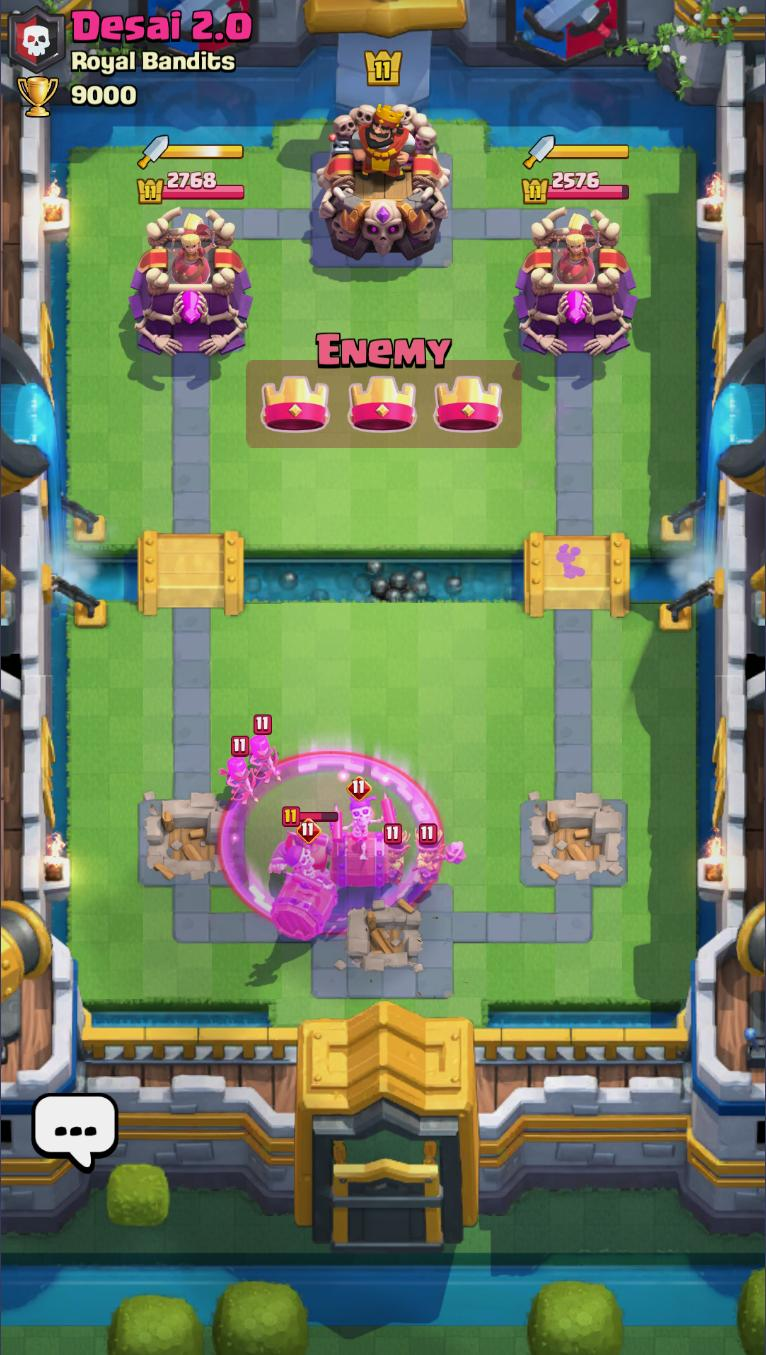Archer: (239, 714, 283, 790), (216, 739, 259, 806)
BushGoblins: (410, 826, 467, 899), (383, 823, 413, 889)
DaggerDuchess: (161, 213, 216, 286), (553, 213, 601, 286)
Daggers: (137, 134, 246, 171), (523, 136, 634, 170)
EnemyTower: (510, 206, 643, 360), (124, 207, 254, 359)
EvoWallBreackers: (270, 824, 343, 949), (333, 779, 394, 887)
KingTower: (314, 100, 456, 270)
Knight: (267, 809, 339, 883)
MyKingTowerBrocken: (306, 859, 456, 1003)
MyPrincessTowerBrocken: (134, 790, 250, 887), (517, 797, 631, 887)
Rage: (221, 749, 447, 927)
TowerPrincessHP: (521, 167, 636, 207), (134, 169, 250, 206)
